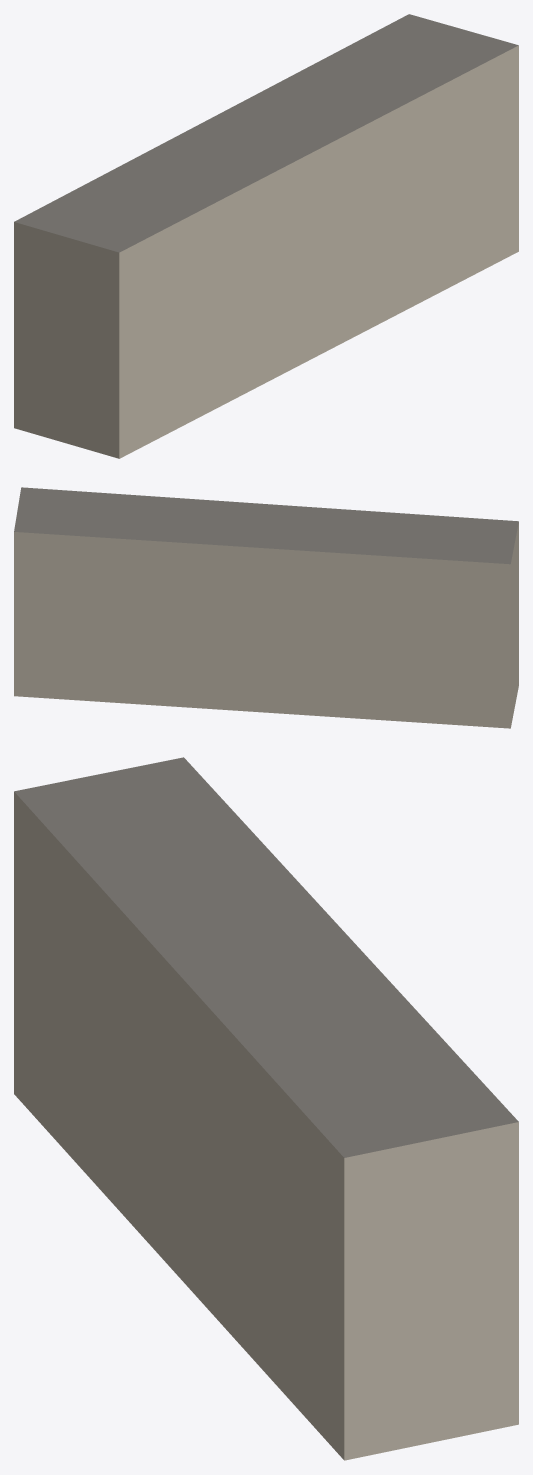
3 views of the same model, one above another, from view 1: azimuth 30°, elevation 25°; view 2: azimuth 150°, elevation 25°; view 3: azimuth 270°, elevation 25° (orthographic). The views are drawn at different scales.
Parts seen in each view (by area): view 1: HP-w1058562703; view 2: HP-w1058562703; view 3: HP-w1058562703.
Part boxes in pixels (x1=…): HP-w1058562703: x1=14, y1=14, x2=518, y2=458; HP-w1058562703: x1=14, y1=487, x2=518, y2=728; HP-w1058562703: x1=14, y1=757, x2=518, y2=1460.
Size of the model in its own units: 51.11 by 18 by 27.22.
